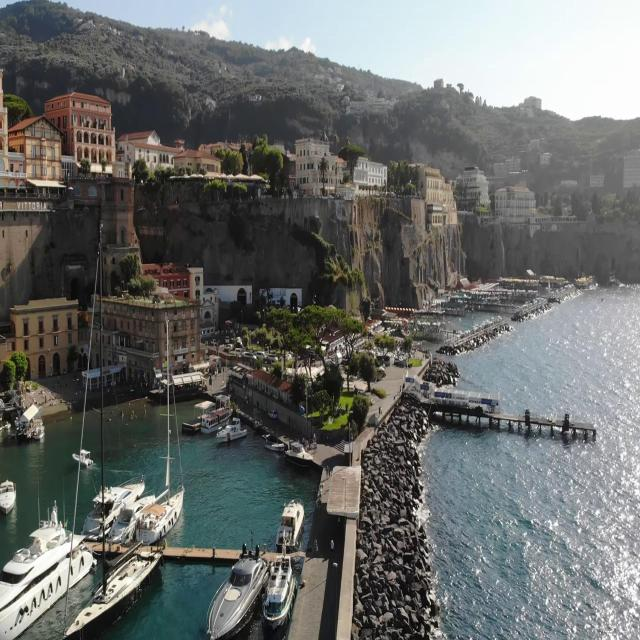boat: (205, 530, 267, 639), (82, 477, 146, 541), (262, 554, 298, 636), (116, 492, 154, 538), (275, 496, 301, 546), (282, 432, 310, 471), (218, 418, 248, 444), (203, 404, 229, 434), (0, 476, 16, 515), (72, 446, 92, 472)
sailboat: (58, 218, 162, 640), (140, 335, 180, 541)
